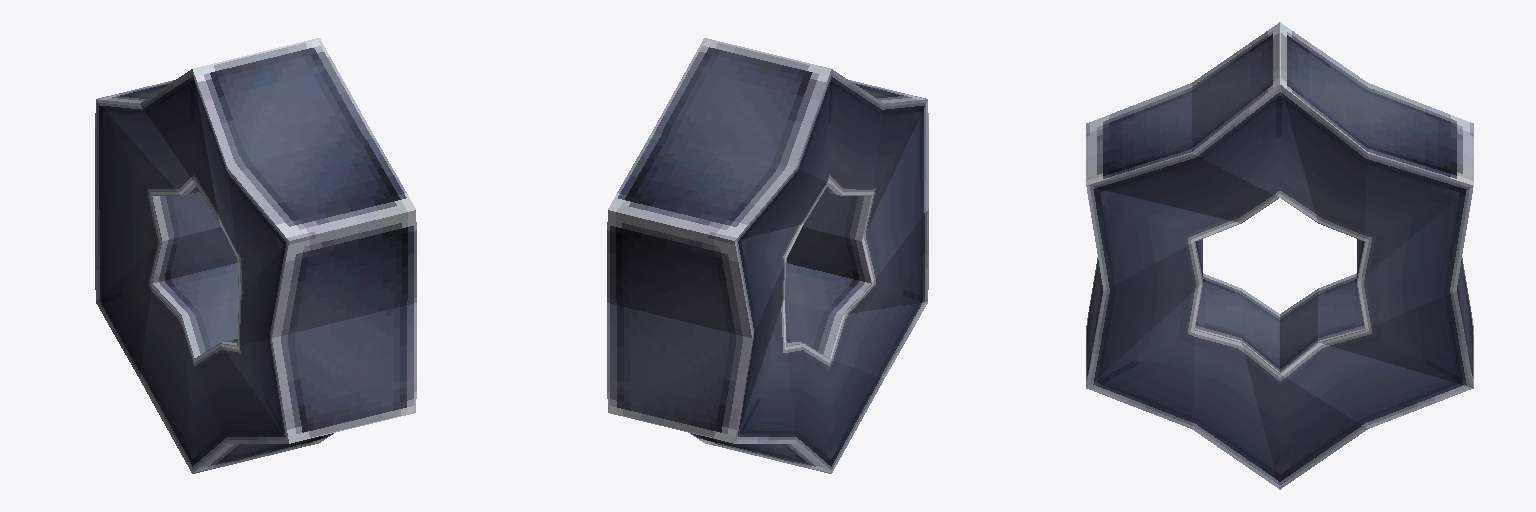
3 views of the same model, side by side, from view 1: azimuth 30°, elevation 25°; view 2: azimuth 150°, elevation 25°; view 3: azimuth 270°, elevation 25° (orthographic).
Visible parts, largest first — view 1: Object01; view 2: Object01; view 3: Object01.
Boxes of the visible parts, x1,y1,x2,y2 form: Object01: [95, 38, 416, 473]; Object01: [607, 38, 928, 473]; Object01: [1086, 22, 1473, 489].
Size of the model in its own units: 8.07 by 21.6 by 18.71.
Materials: 1 (1 with a texture image).